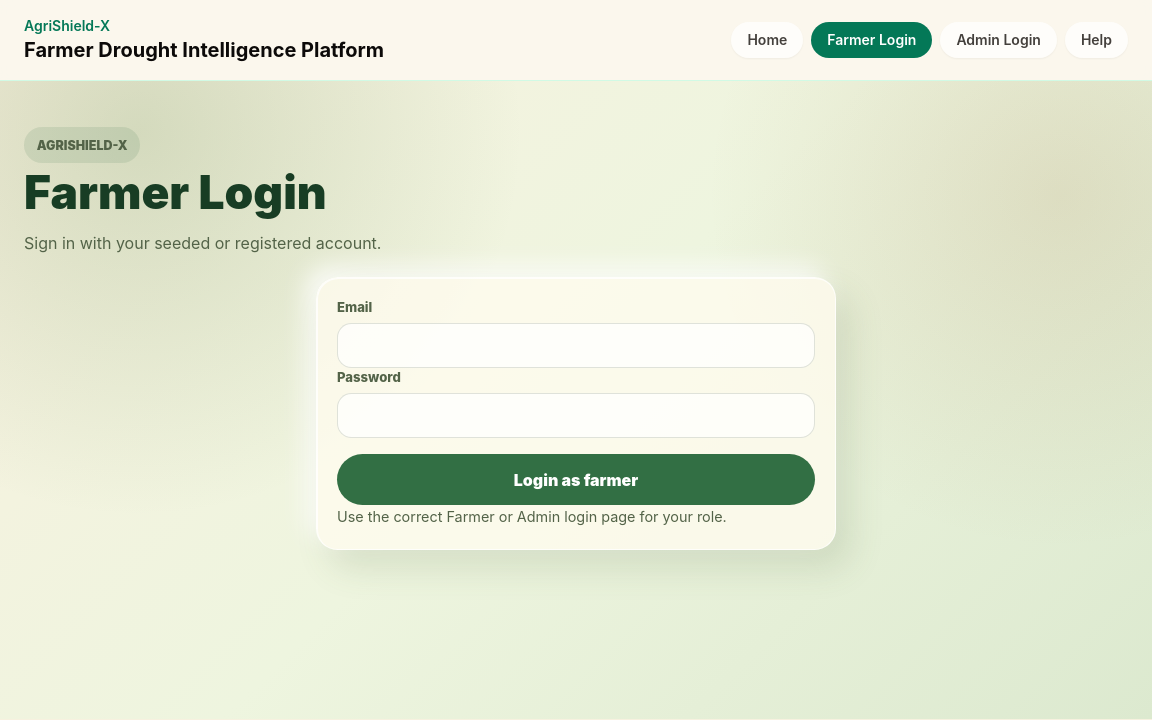
Test case: farmer login opens farmer dashboard and farmer navbar only
The image size is (1152, 720).
Expected: the heading "Farmer Login" is shown, top-left (24, 164), bottom-right (327, 220)
Type "farmer@test.local" into the field labelled "Email" at (576, 346), box top-left (337, 323), bottom-right (815, 368)
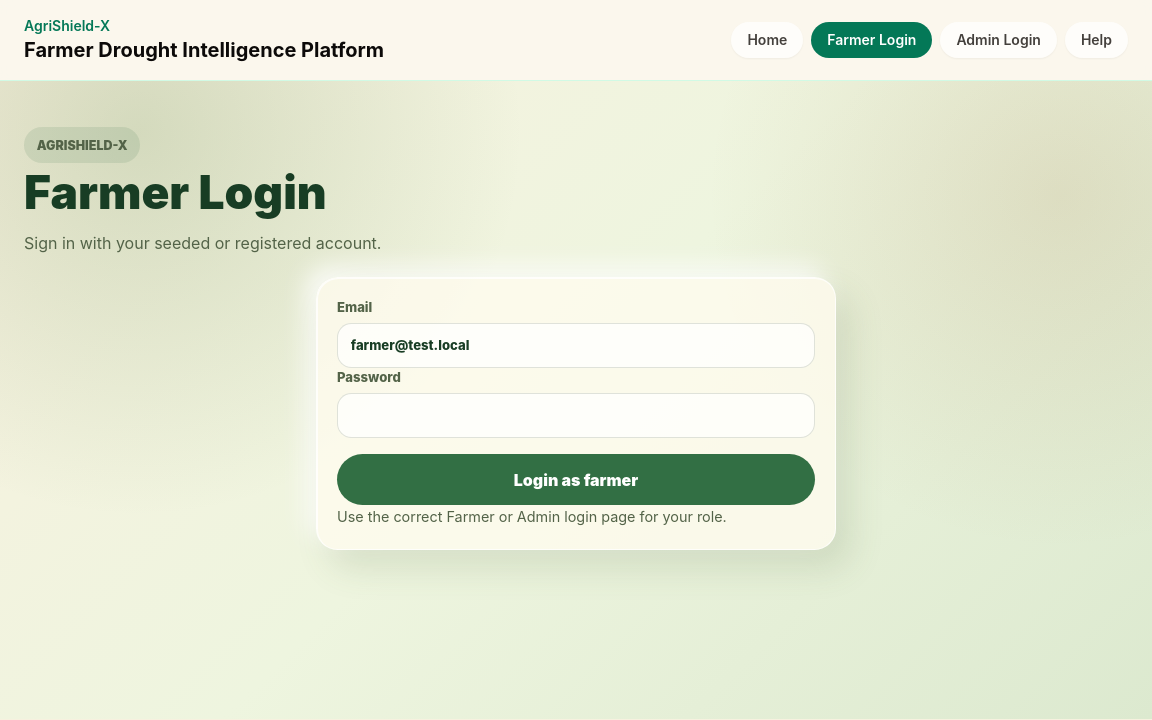
Type "Password@123" into the password field labelled "Password" at (576, 416), box top-left (337, 393), bottom-right (815, 438)
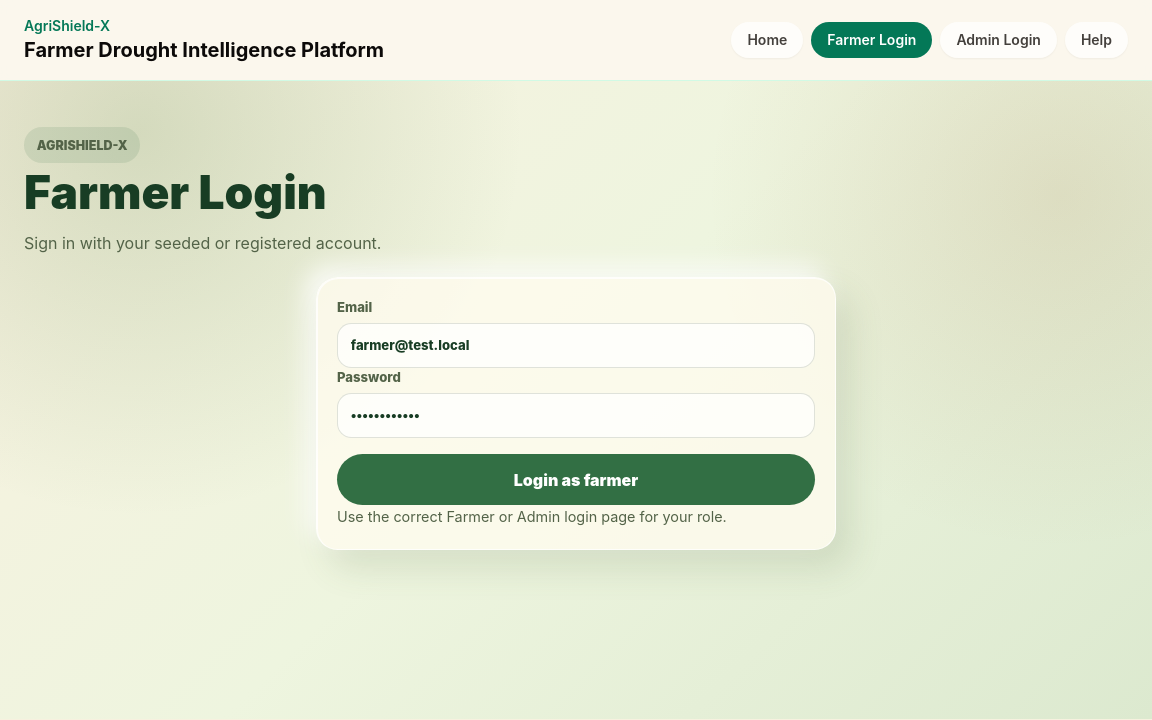
Click the button "Login as farmer" at (576, 480), box top-left (337, 454), bottom-right (815, 505)
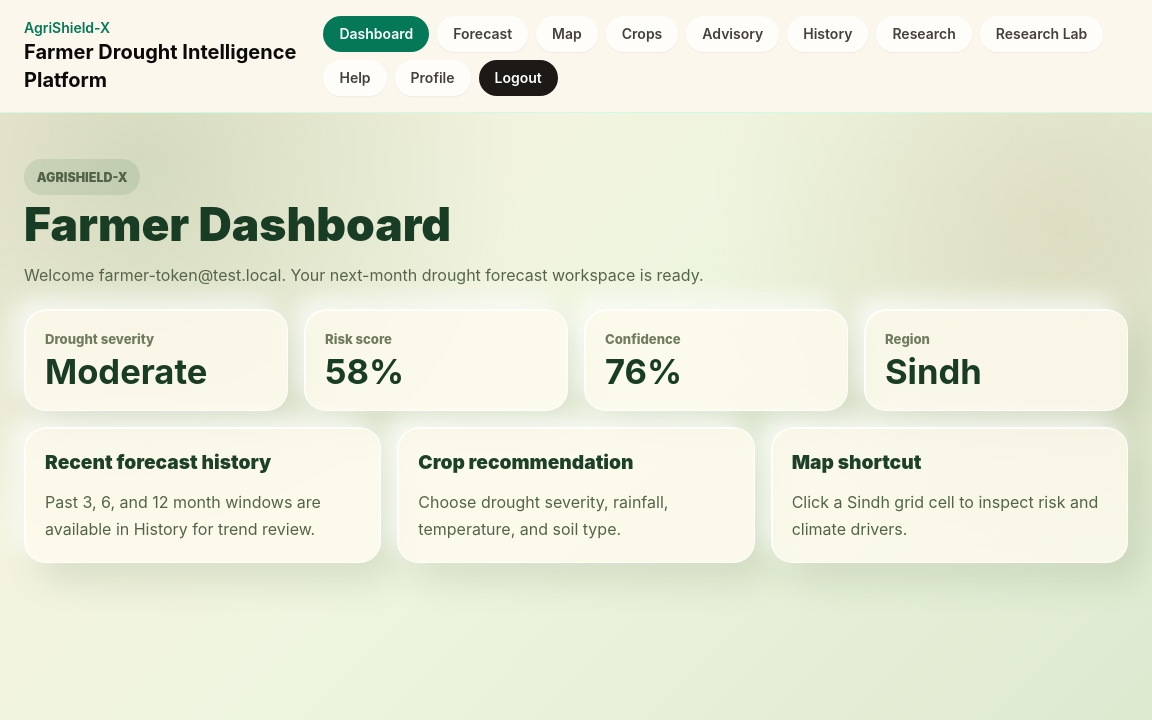
Now the heading "Farmer Dashboard" is shown, box top-left (24, 196), bottom-right (451, 252)
Now the button "Forecast" is shown, box top-left (437, 16), bottom-right (528, 52)
